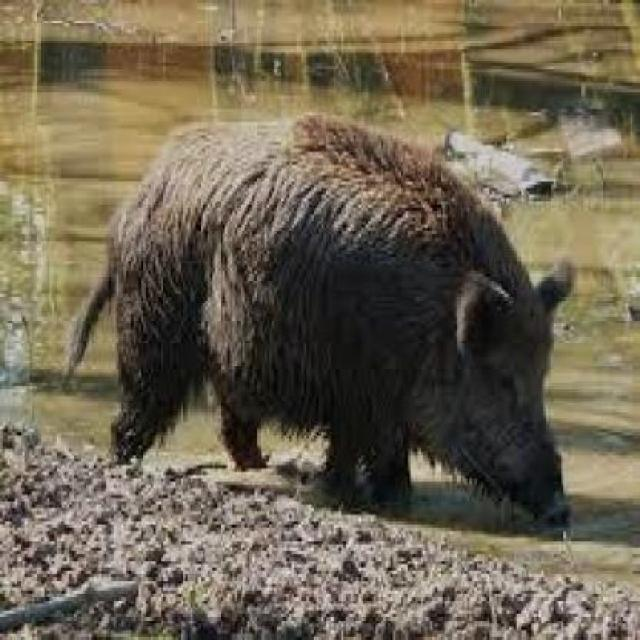Wild Boar: (51, 100, 583, 533)
